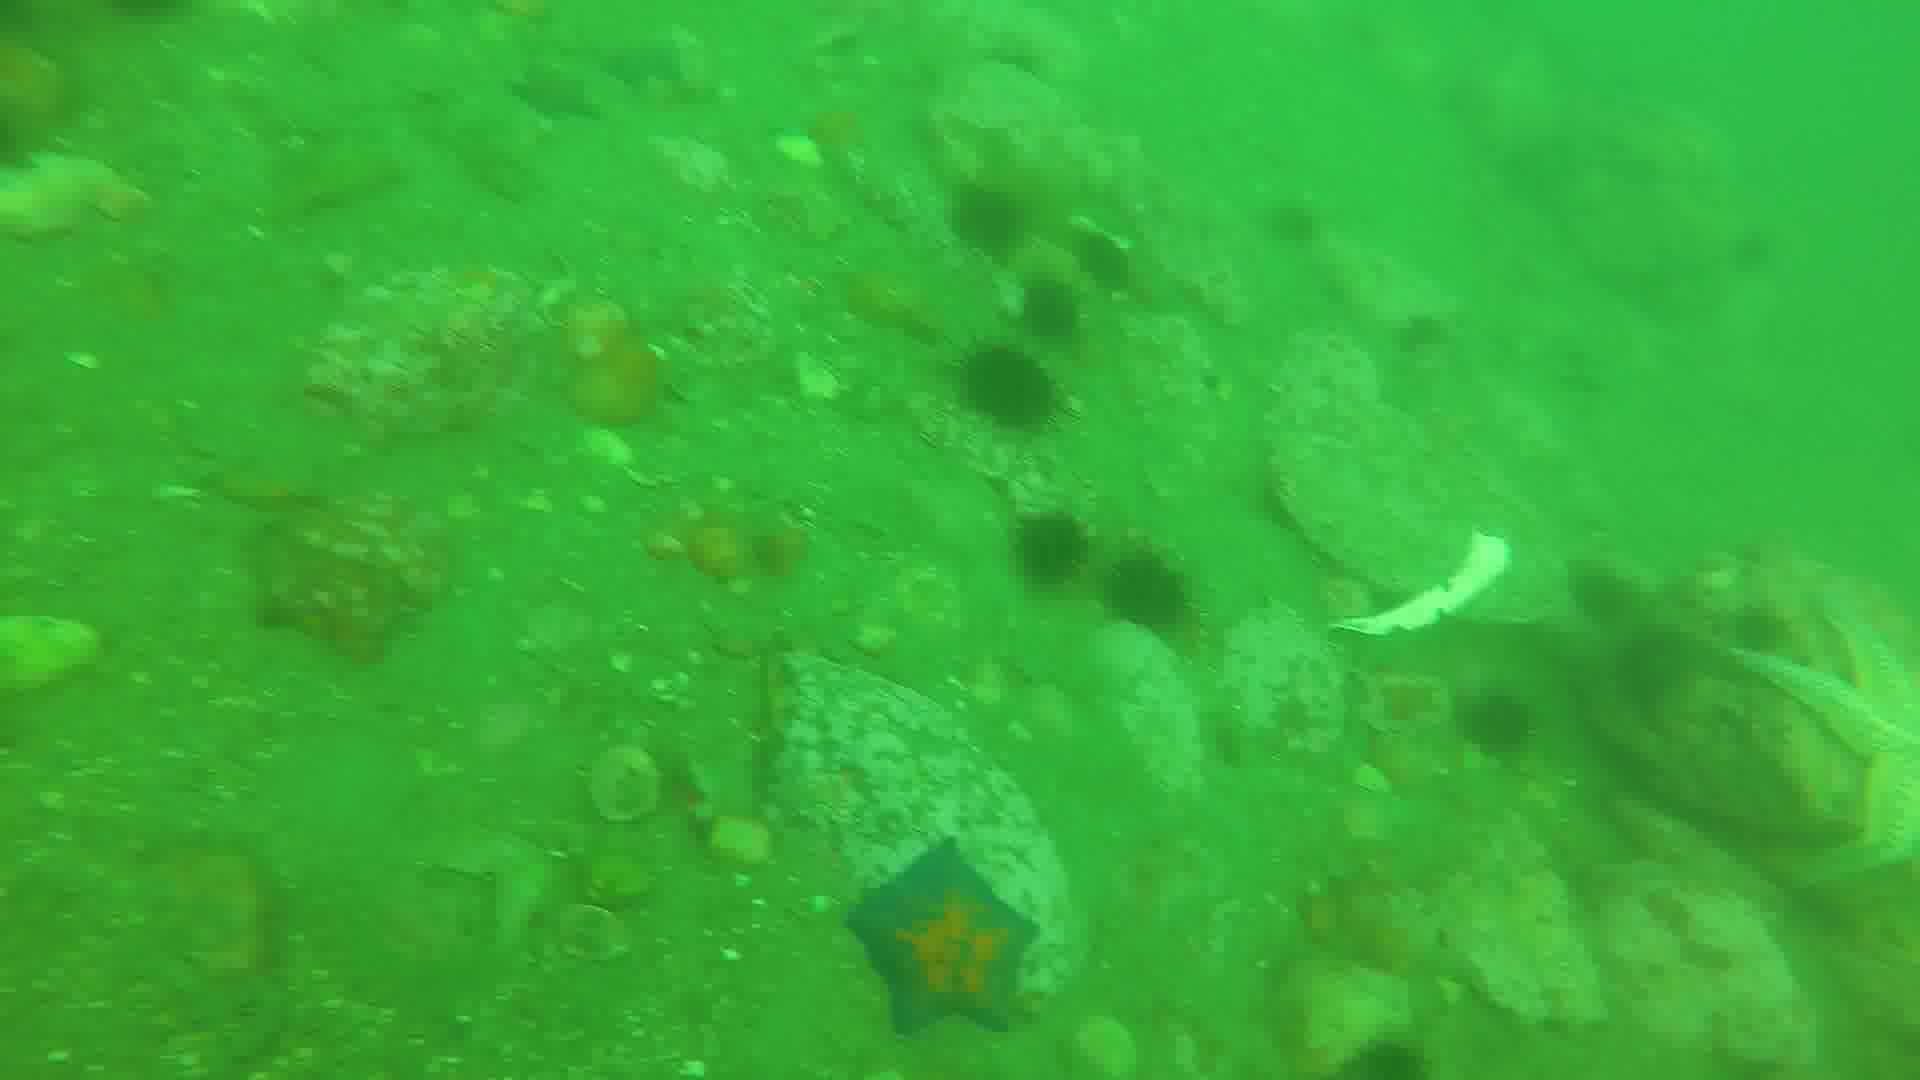echinus: (969, 348, 1064, 443), (1110, 550, 1191, 632), (1319, 1025, 1433, 1080), (1011, 513, 1089, 585), (1460, 684, 1535, 758), (949, 190, 1022, 261), (1026, 276, 1088, 347), (1625, 630, 1685, 702), (1104, 248, 1147, 316), (1733, 604, 1792, 651)
scallop: (593, 735, 661, 831)
starfish: (1754, 604, 1920, 895), (860, 843, 1035, 1043), (516, 63, 603, 124)
